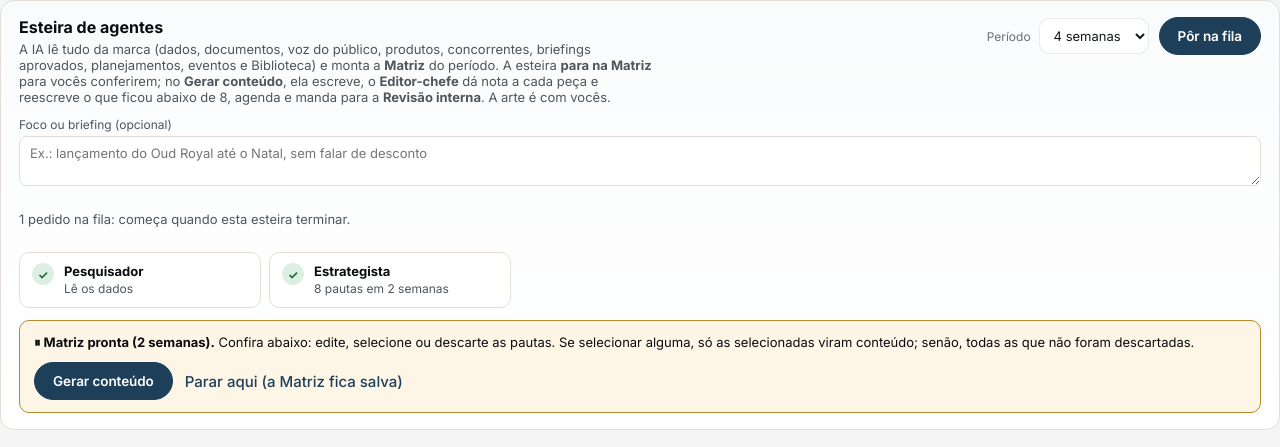
Esteira de agentes › para na Matriz e segue no Gerar conteúdo
This screenshot has width=1280, height=447.
Expected: the message with class "agentPause" shows "Matriz pronta (2 semanas)", [19,320,1261,413]
Click the button "Gerar conteúdo": point(103, 381) [34,362,173,400]
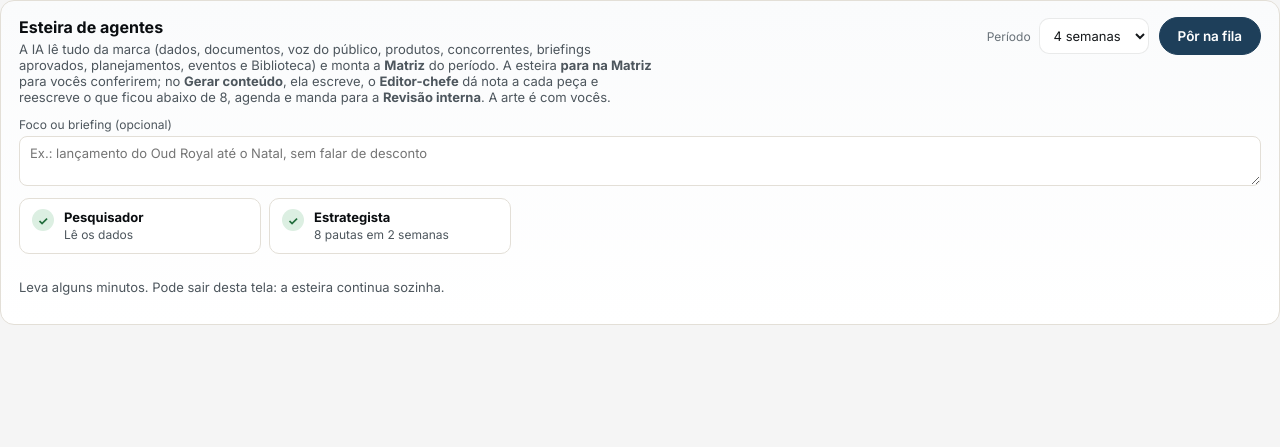
Now the message with class "agentPause" is gone
